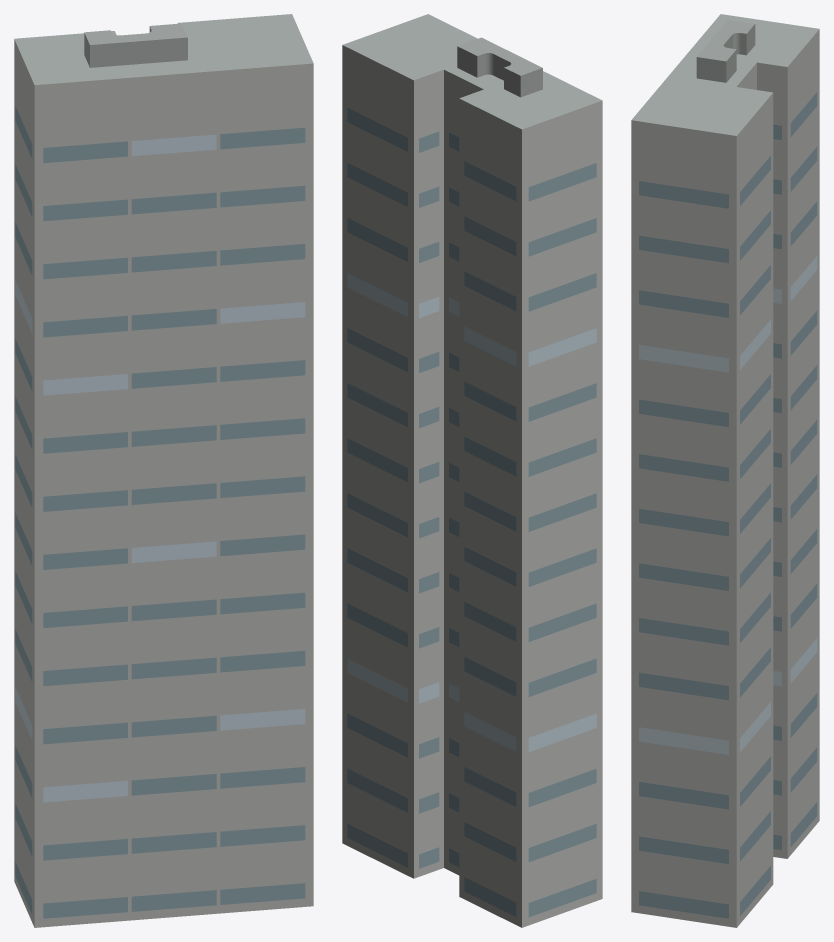
File: fallback-dh-honor-hills-307.glb
3 renders of one model, left to right at view 1: azimuth 30°, elevation 25°; view 2: azimuth 150°, elevation 25°; view 3: azimuth 270°, elevation 25°, orthographic. The views are drawn at different scales.
Visible parts, largest first — view 1: fallback-dh-honor-hills-307; view 2: fallback-dh-honor-hills-307; view 3: fallback-dh-honor-hills-307.
Boxes of the visible parts, box(x1,y1,x2,y2) form: fallback-dh-honor-hills-307: box(14, 14, 313, 927); fallback-dh-honor-hills-307: box(342, 14, 602, 927); fallback-dh-honor-hills-307: box(631, 14, 819, 927).
Bounding box in the file's own units: 29.28 × 91 × 19.1.
